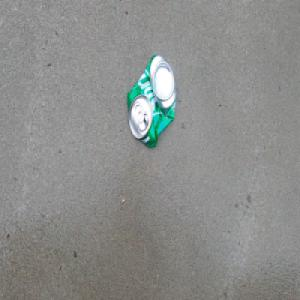SodaCan: (125, 51, 177, 149)
